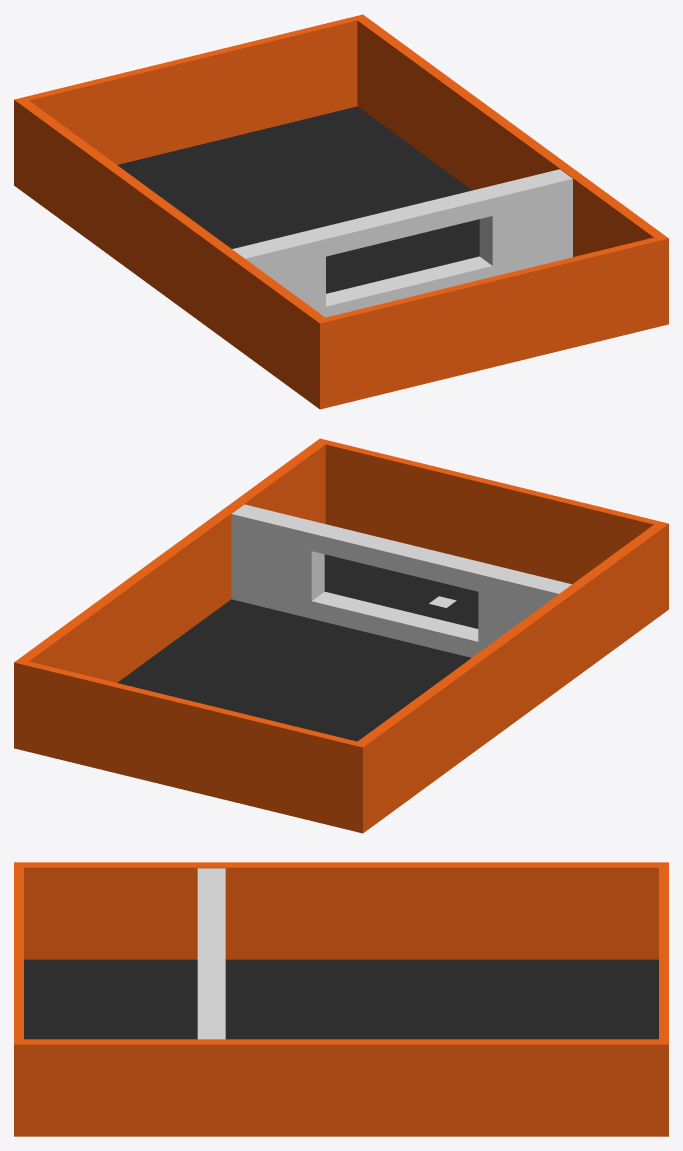
Rendered from training.glb.
The picture shows the model from 3 angles, top to bottom: view 1: azimuth 30°, elevation 25°; view 2: azimuth 150°, elevation 25°; view 3: azimuth 270°, elevation 25°; orthographic projection. The views are drawn at different scales.
Visible parts, largest first — view 1: floors.001, Plane.001, Cube.012; view 2: floors.001, Plane.001, Cube.012; view 3: floors.001, Plane.001, Cube.012.
Boxes of the visible parts, x1,y1,x2,y2 form: floors.001: [14, 14, 668, 409]; Plane.001: [117, 106, 479, 293]; Cube.012: [232, 169, 572, 317]; floors.001: [14, 438, 668, 833]; Plane.001: [117, 554, 478, 741]; Cube.012: [231, 504, 571, 657]; floors.001: [14, 862, 668, 1136]; Plane.001: [24, 959, 658, 1039]; Cube.012: [197, 868, 225, 1039].
Size of the model in its own units: 8.5 by 2.01 by 12.91.
